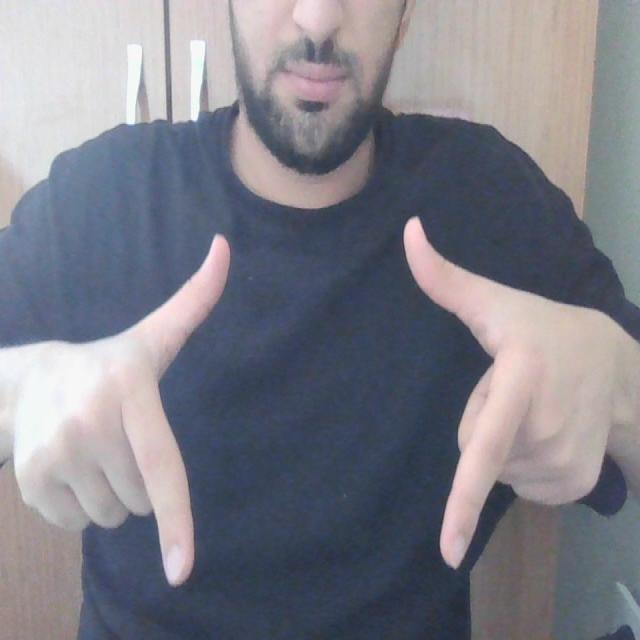Nerede: (94, 212, 546, 606)
